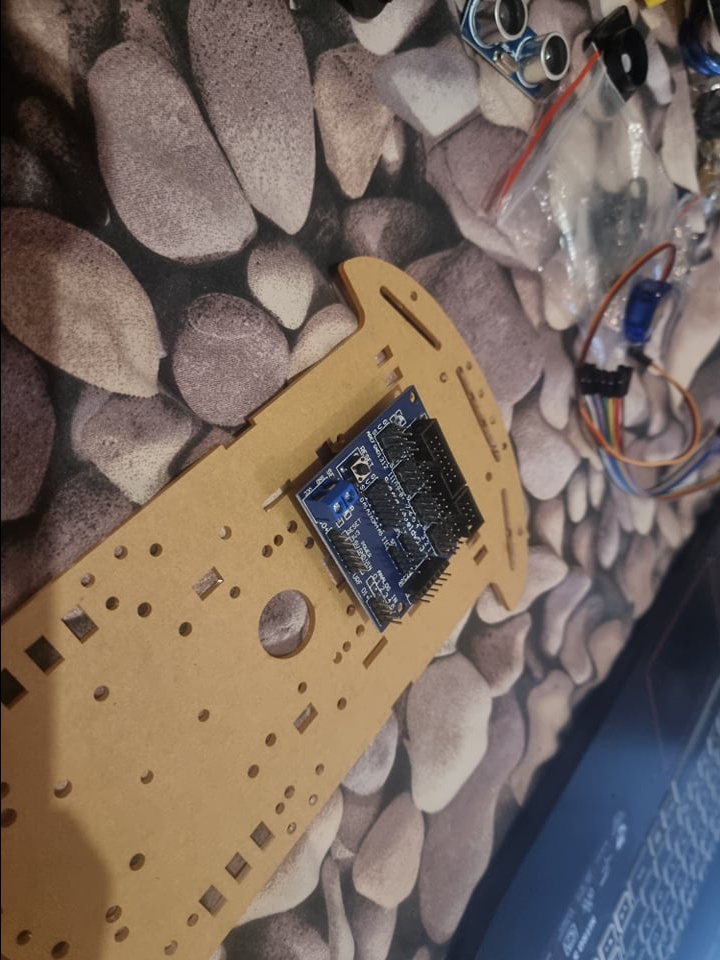5V EXPANSION: (293, 386, 487, 633)
SENSOR: (456, 1, 566, 99)
